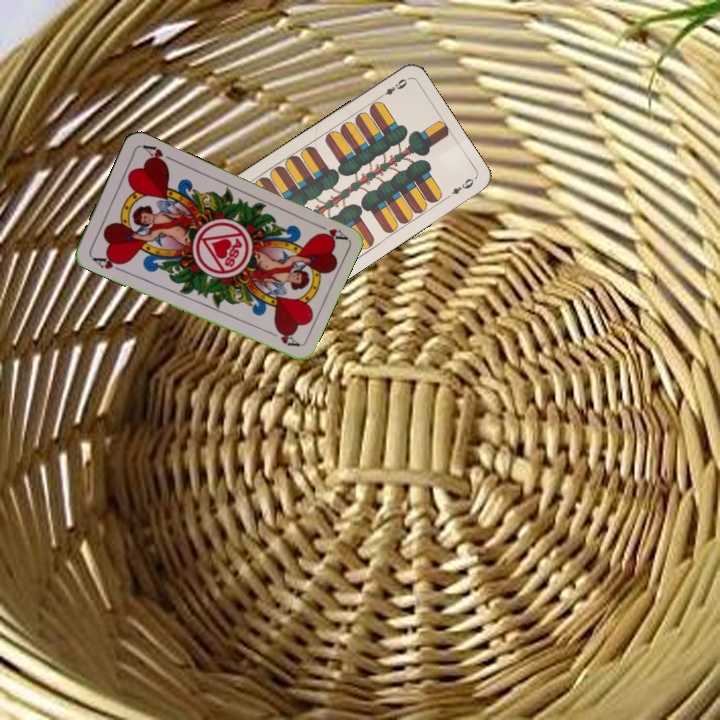E9: (375, 74, 411, 102)
HA: (310, 219, 349, 244), (88, 252, 128, 275)
